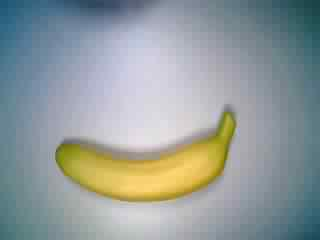banana: (52, 107, 245, 209)
